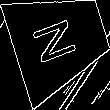N_E: (32, 14, 87, 68)
